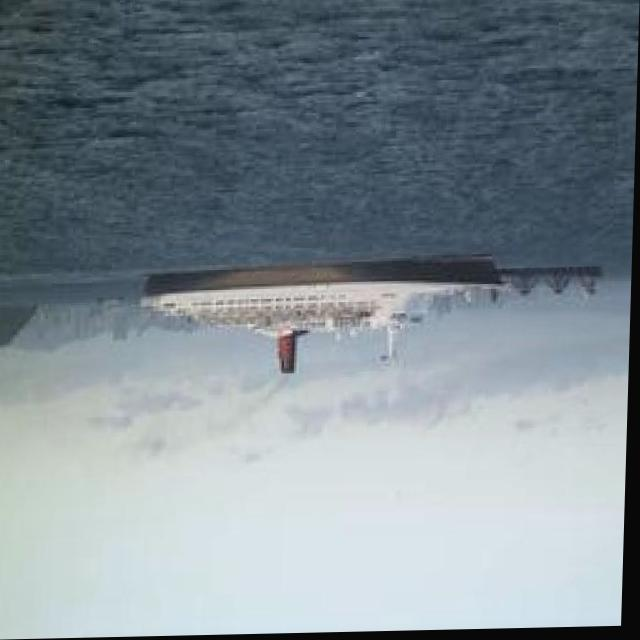ship2: (143, 258, 504, 377)
